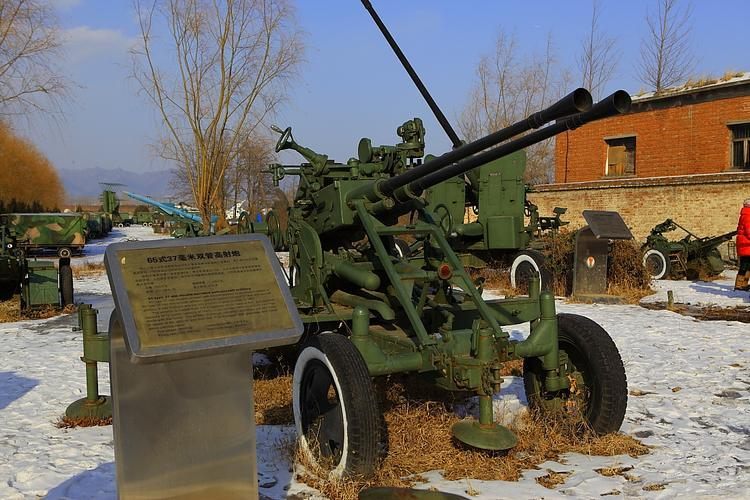MIL_SPG: (271, 89, 631, 477)
